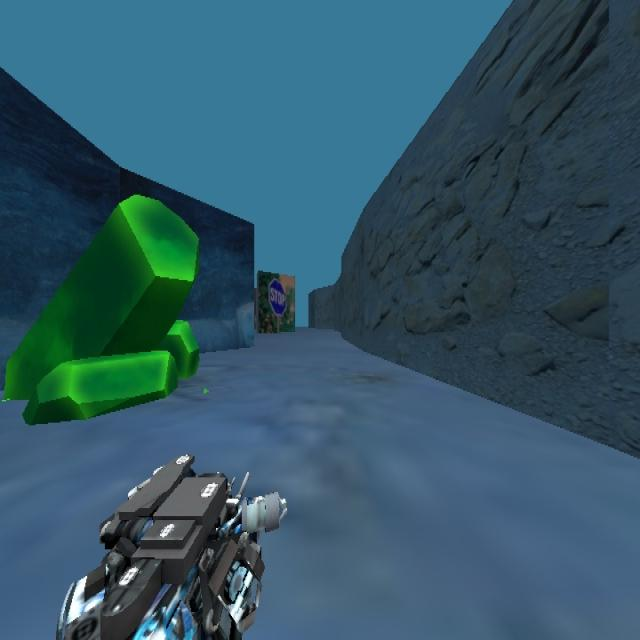Diamon: (2, 192, 201, 424)
Stop_Sign: (268, 276, 286, 317)
